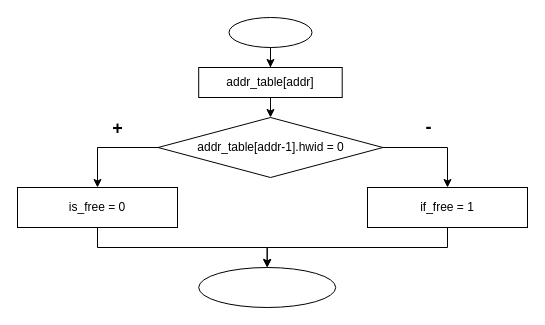
Some shapes in this 545 by 325 pixel diagram are drawn without their labels. Each missing label, with the box of its shape:
Возврат is_free: (198, 266, 336, 308)
Начало: (228, 16, 312, 48)
